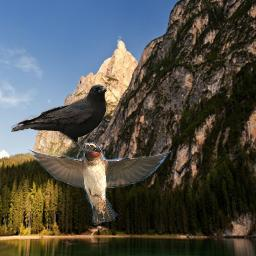Crow: (11, 84, 107, 153)
Swallow: (23, 142, 171, 225)
